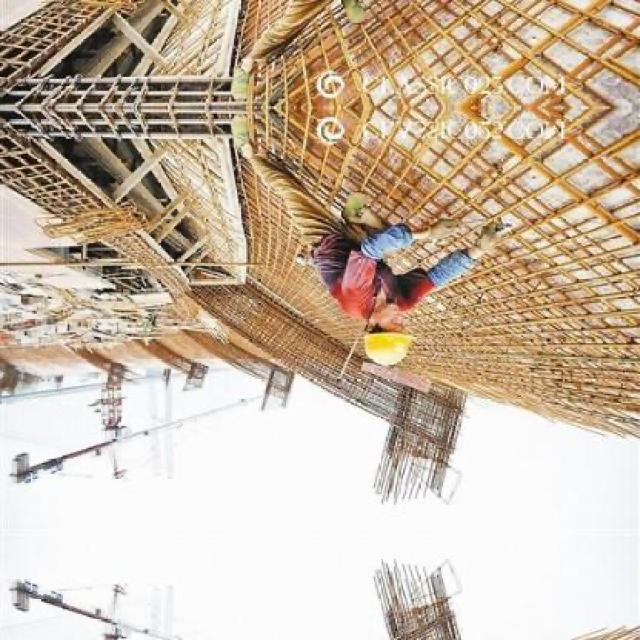con casco: (335, 289, 419, 376)
